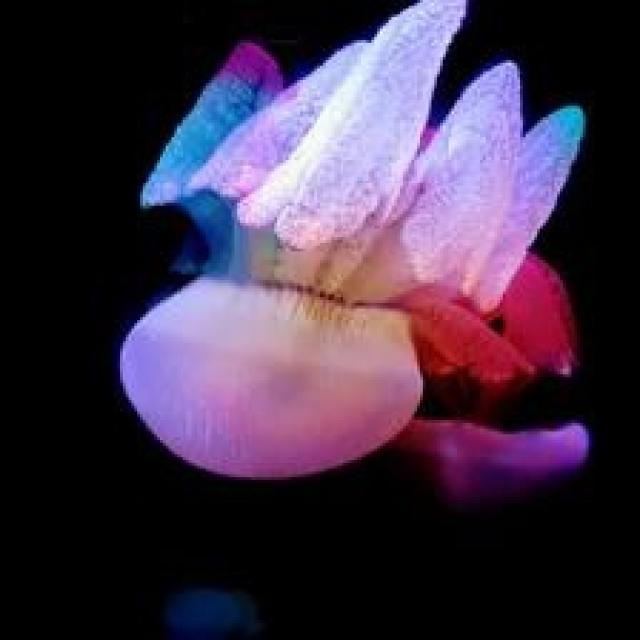Jellyfish: (114, 0, 592, 503)
